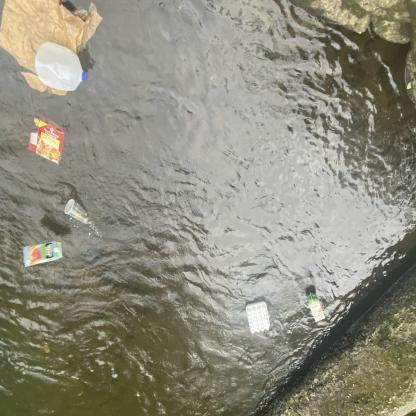Plastic: (38, 41, 93, 97), (63, 193, 92, 232), (244, 299, 274, 335)
Trash: (0, 0, 106, 98)
